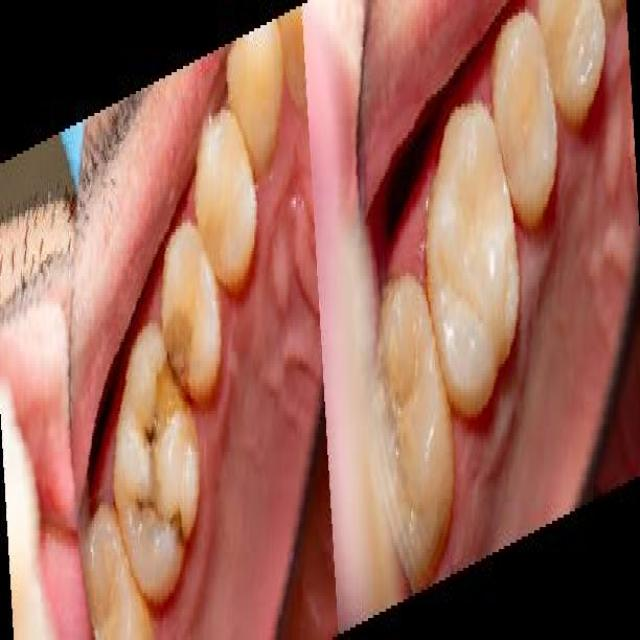caries: (132, 426, 183, 553), (150, 300, 194, 414)
